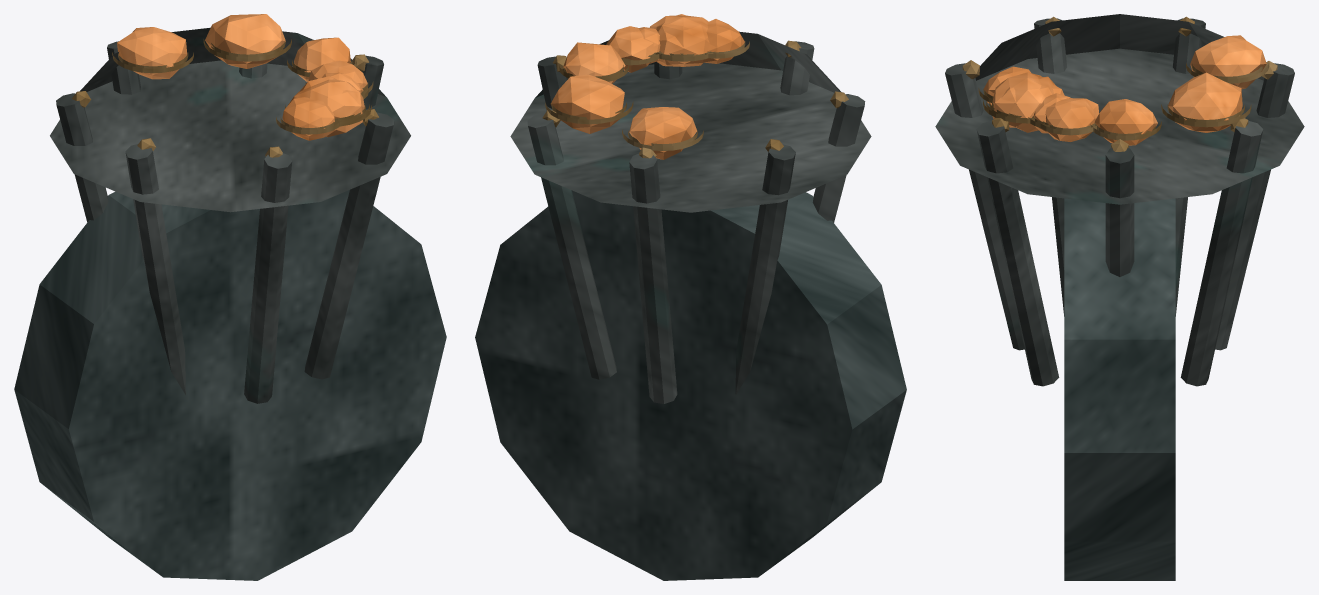
Rendered from 0541_brazier_16.glb.
3 views of the same model, side by side, from view 1: azimuth 30°, elevation 25°; view 2: azimuth 150°, elevation 25°; view 3: azimuth 270°, elevation 25° (orthographic). The views are drawn at different scales.
Parts seen in each view (by area): view 1: stone_dark, iron, amber, brass; view 2: stone_dark, iron, amber, brass; view 3: iron, stone_dark, amber, brass.
Boxes of the visible parts, x1,y1,x2,y2 form: stone_dark: [14, 190, 446, 580]; iron: [50, 27, 410, 403]; amber: [117, 14, 367, 140]; brass: [72, 39, 378, 157]; stone_dark: [475, 190, 906, 580]; iron: [510, 31, 871, 403]; amber: [550, 14, 744, 159]; brass: [542, 40, 848, 158]; iron: [935, 14, 1304, 386]; stone_dark: [1064, 198, 1175, 580]; amber: [983, 35, 1266, 145]; brass: [962, 16, 1277, 151].
Size of the model in its own units: 1.4 by 1.76 by 1.16.
4 materials, 4 textured.
